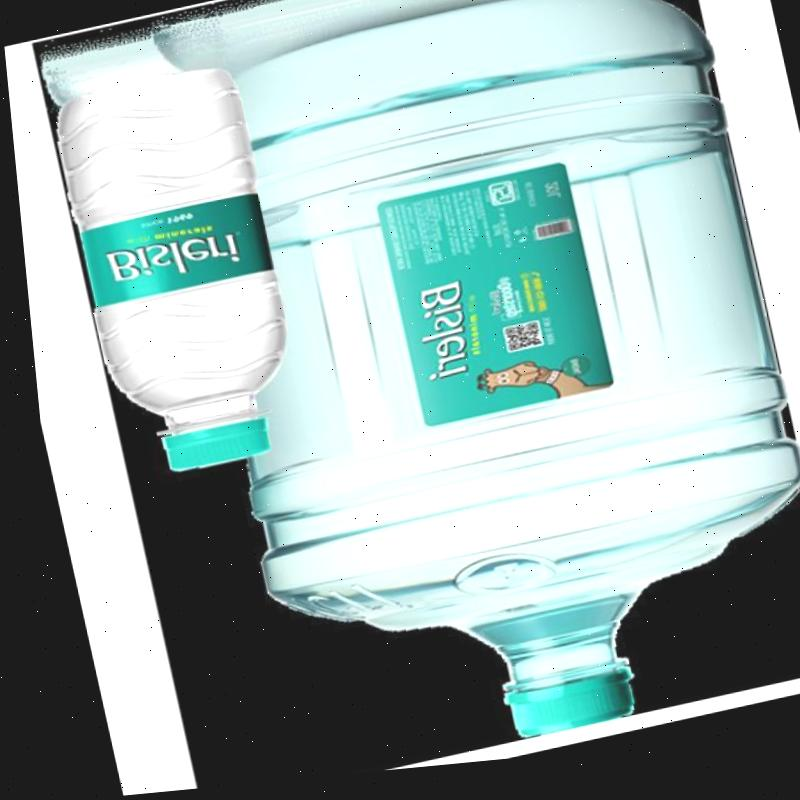botella: (41, 64, 307, 490)
